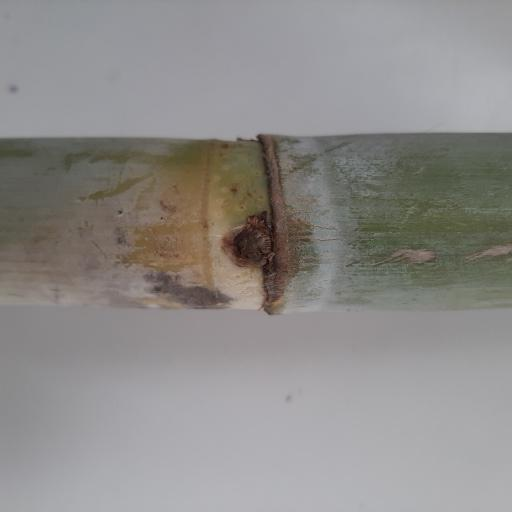Bud: (234, 227, 271, 262)
